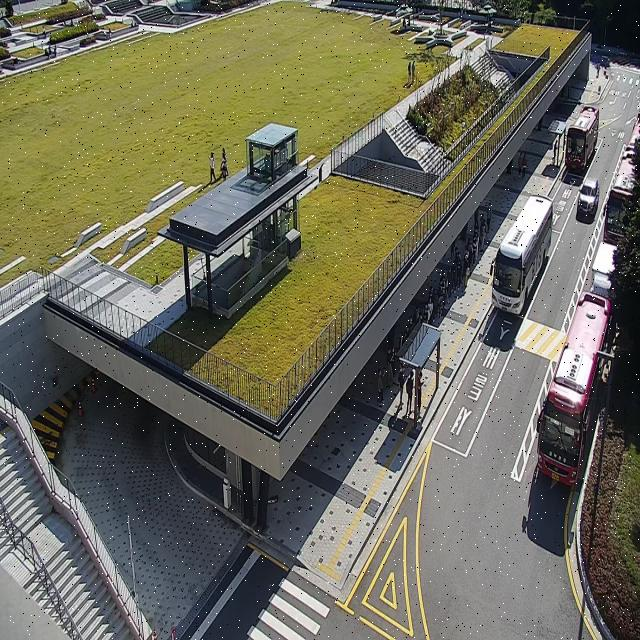queue: (412, 202, 492, 428)
